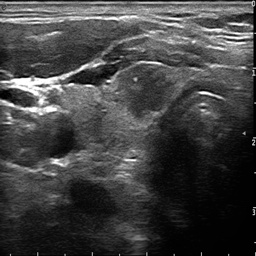mass: (114, 64, 169, 116)
